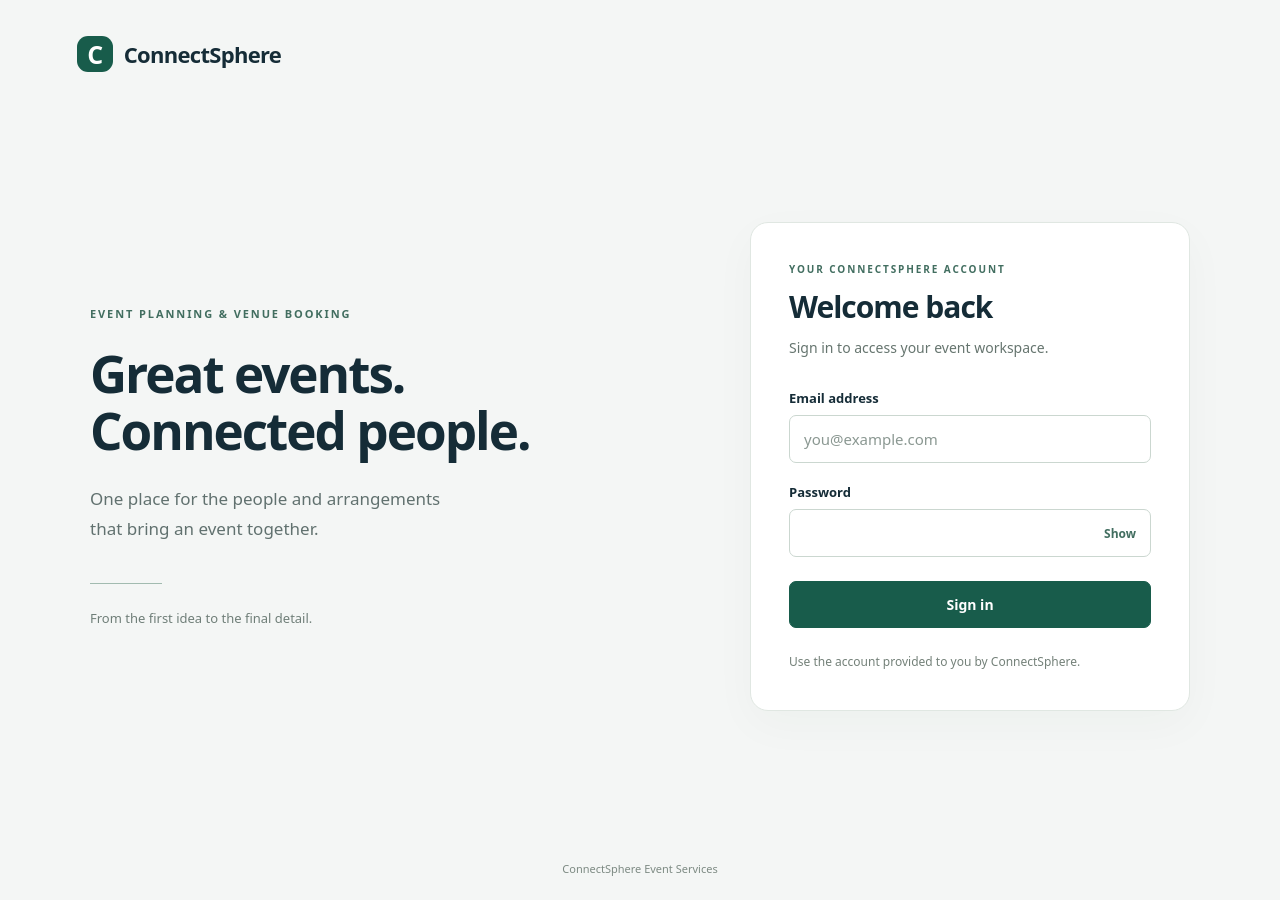
Test: [RBAC-ACCESS-005] Sign-in to a forbidden return URL still enforces permission
In the field labelled "Email address": x=970, y=439 [789,415,1151,463], type "user@client.sg"
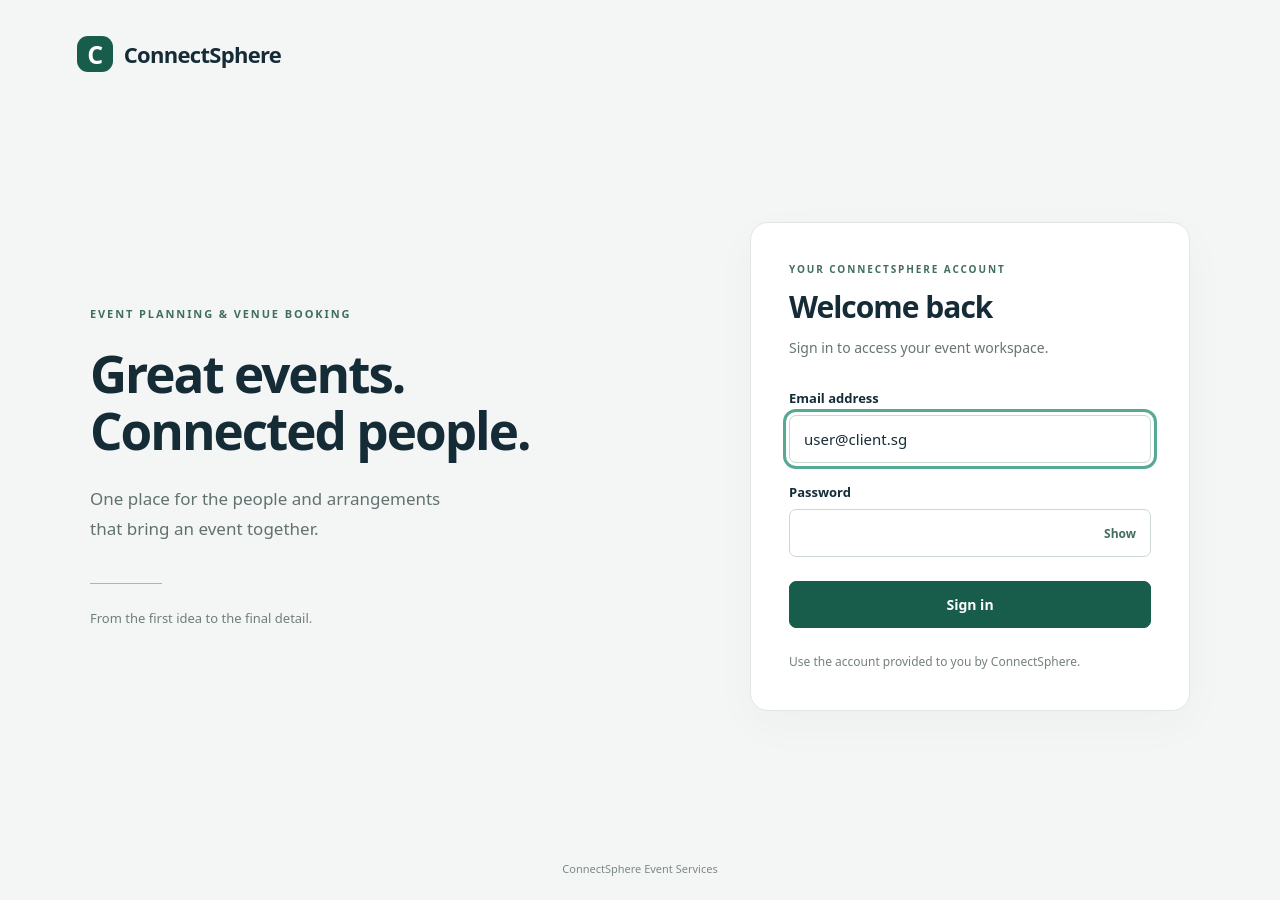
In the password field labelled "Password": x=970, y=533 [789,509,1151,557], type "SomePassword!"
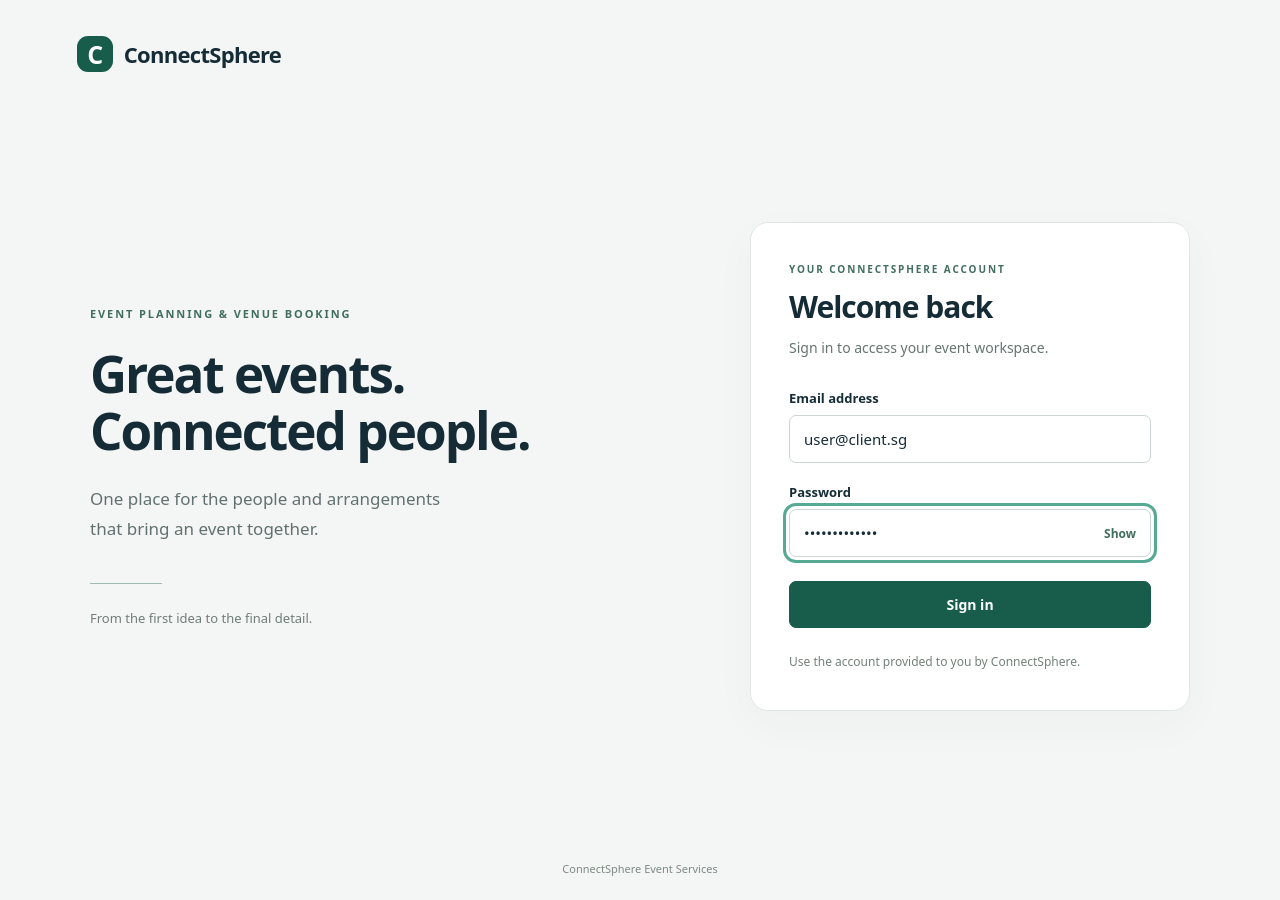
Click the button "Sign in": x=970, y=604 [789,581,1151,628]
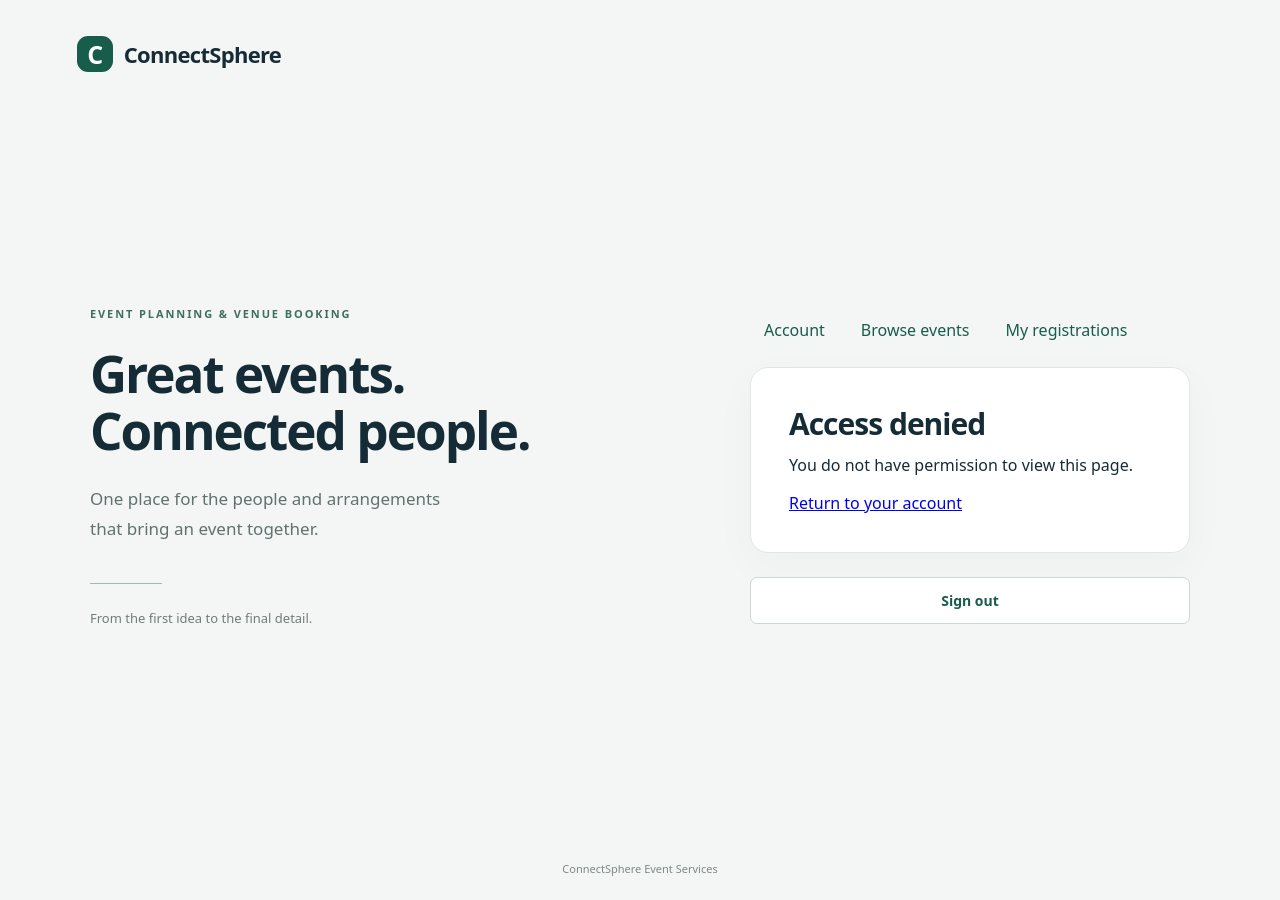
Now the heading "Access denied" is shown, box [789,403,985,444]
